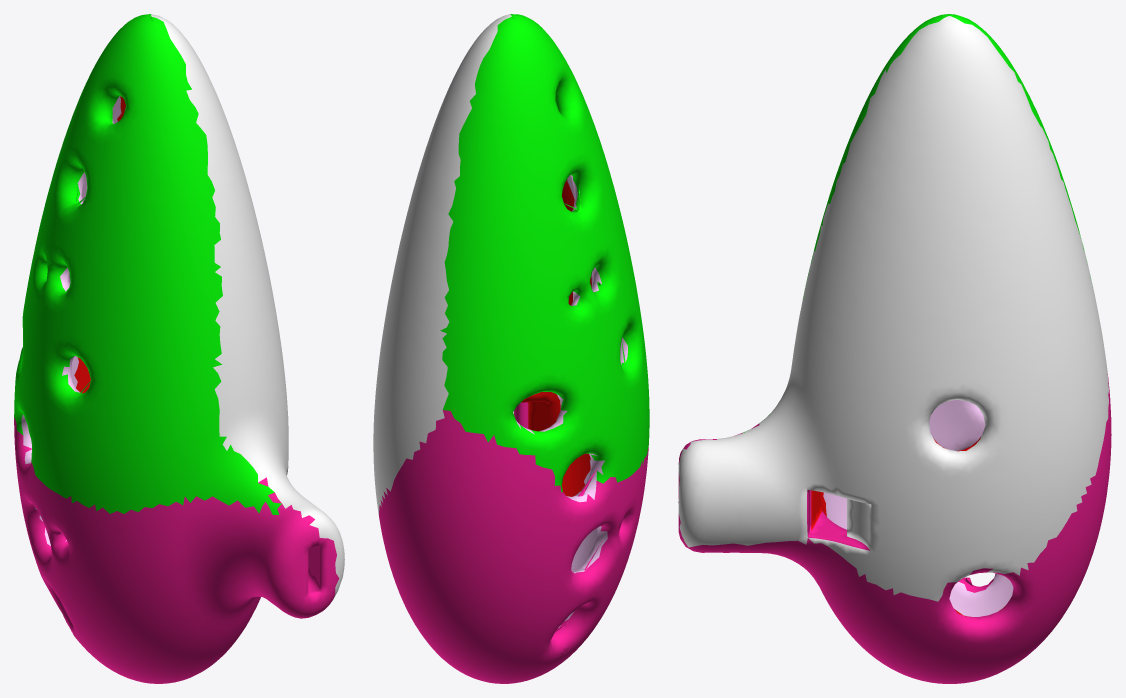
The model's file is model_29645_segmented.obj.
3 renders of one model, left to right at view 1: azimuth 30°, elevation 25°; view 2: azimuth 150°, elevation 25°; view 3: azimuth 270°, elevation 25°, orthographic.
Size of the model in its own units: 47.99 by 135 by 80.12.
